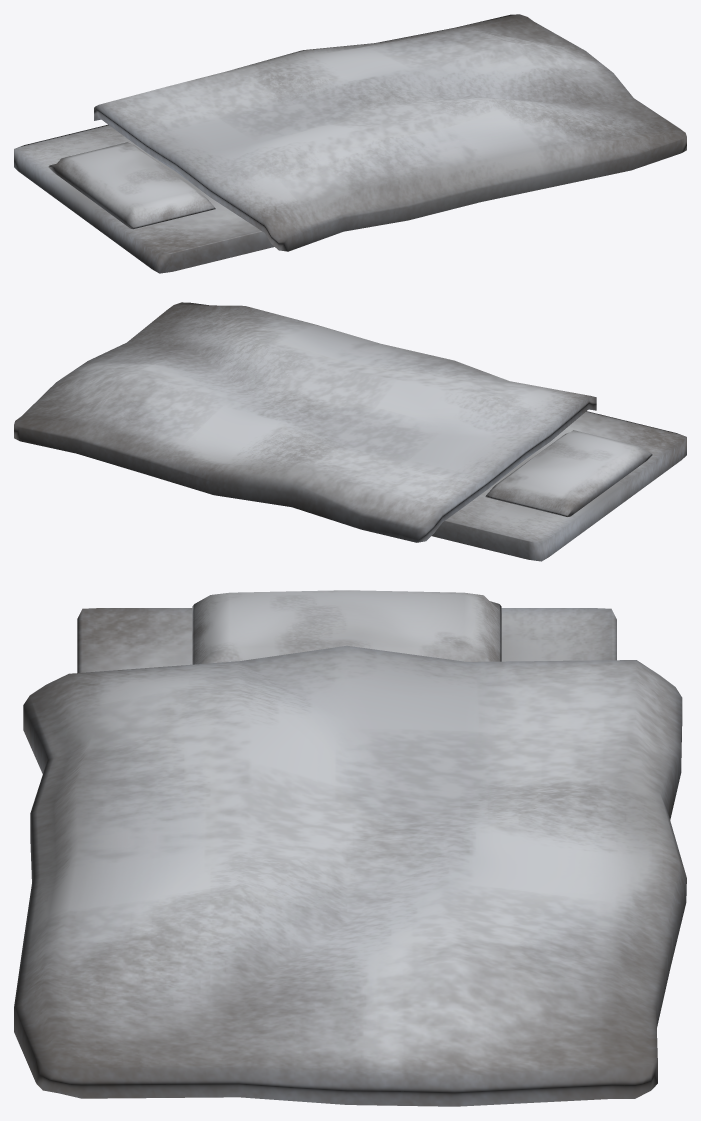
File: BgMD_futon.fbx
The picture shows the model from 3 angles, top to bottom: view 1: azimuth 30°, elevation 25°; view 2: azimuth 150°, elevation 25°; view 3: azimuth 270°, elevation 25°; orthographic projection. The views are drawn at different scales.
Visible parts, largest first — view 1: pCube4; view 2: pCube4; view 3: pCube4.
Part boxes in pixels (x1,y1,x2,y2): pCube4: [14, 14, 686, 273]; pCube4: [14, 302, 686, 561]; pCube4: [14, 590, 686, 1106].
Size of the model in its own units: 206 by 19 by 125.
1 material, 1 textured.
